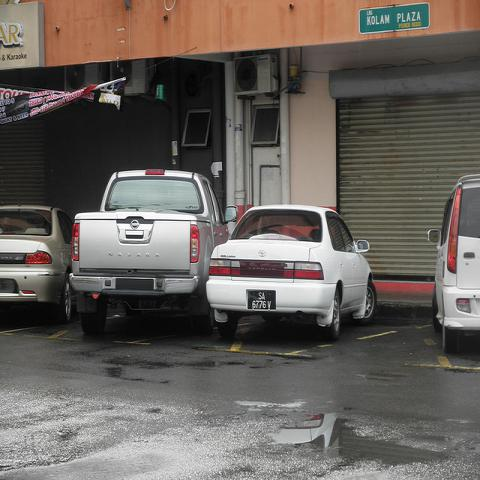car: (206, 204, 380, 342), (428, 174, 480, 350), (0, 206, 76, 320)
truck: (68, 168, 240, 337)
